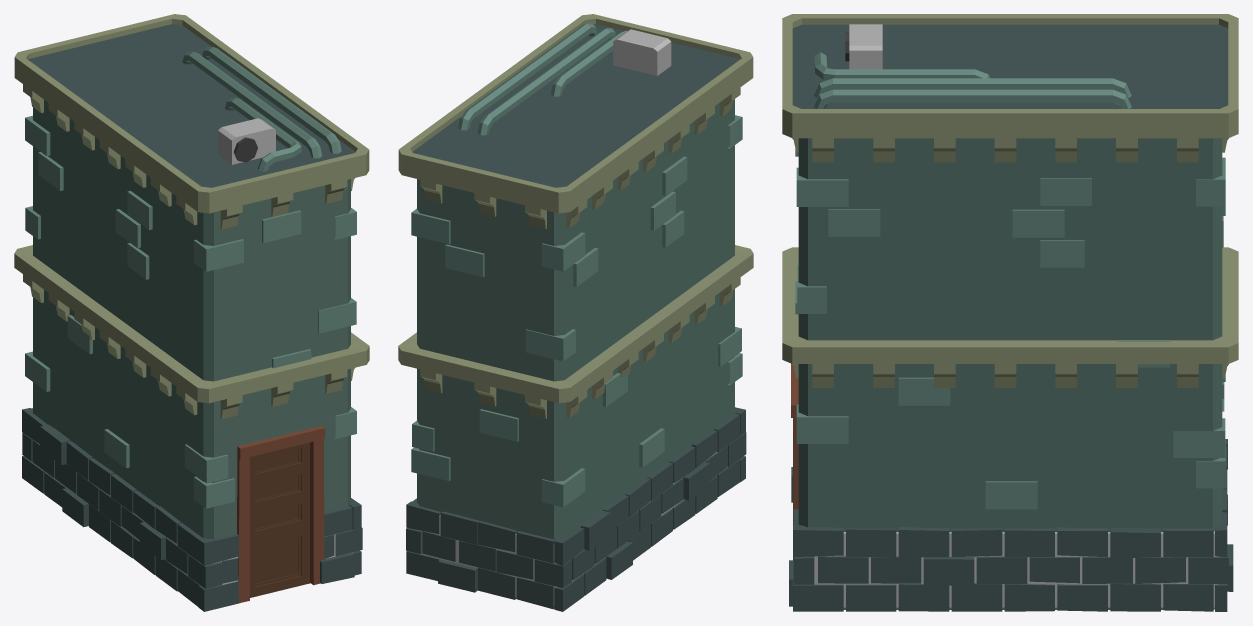
Rendered from 2Story_Slim_Mat.gltf.
3 views of the same model, side by side, from view 1: azimuth 30°, elevation 25°; view 2: azimuth 150°, elevation 25°; view 3: azimuth 270°, elevation 25° (orthographic). The views are drawn at different scales.
Parts seen in each view (by area): view 1: o 2Story_Slim_Mat_Cube.033; view 2: o 2Story_Slim_Mat_Cube.033; view 3: o 2Story_Slim_Mat_Cube.033.
Part boxes in pixels (box(x1,y1,x2,y2)): o 2Story_Slim_Mat_Cube.033: box(14, 14, 369, 611); o 2Story_Slim_Mat_Cube.033: box(398, 14, 753, 611); o 2Story_Slim_Mat_Cube.033: box(782, 14, 1238, 611).
Size of the model in its own units: 1.12 by 2.76 by 2.15.
